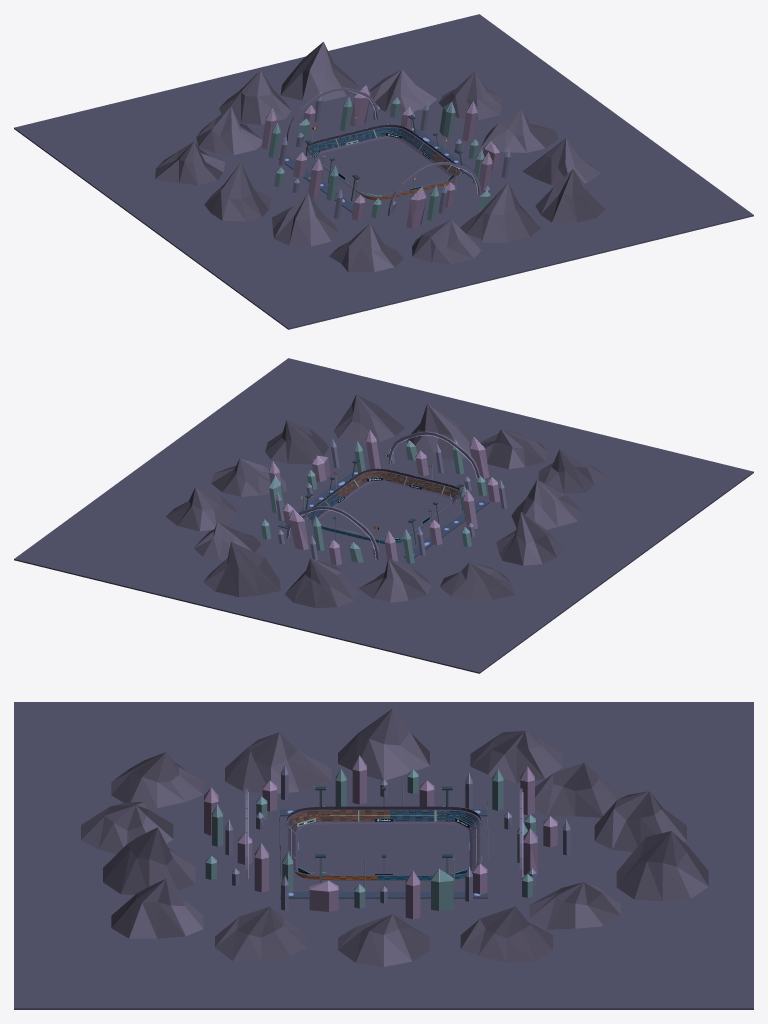
Rendered from crystal-v2.glb.
The picture shows the model from 3 angles, top to bottom: view 1: azimuth 30°, elevation 25°; view 2: azimuth 150°, elevation 25°; view 3: azimuth 270°, elevation 25°; orthographic projection. The views are drawn at different scales.
Visible parts, largest first — view 1: Arena architecture / crystal; view 2: Arena architecture / crystal, Arena lettering and light ribbons / crystal; view 3: Arena architecture / crystal, Arena lettering and light ribbons / crystal.
Part boxes in pixels (x1,y1,x2,y2): Arena architecture / crystal: (14,14,753,329); Arena architecture / crystal: (14,358,753,673); Arena lettering and light ribbons / crystal: (264,430,503,559); Arena architecture / crystal: (14,702,753,1009); Arena lettering and light ribbons / crystal: (217,755,566,895).
Bounding box in the file's own units: 61300 × 5839 × 62600.
4 materials, 2 textured.
